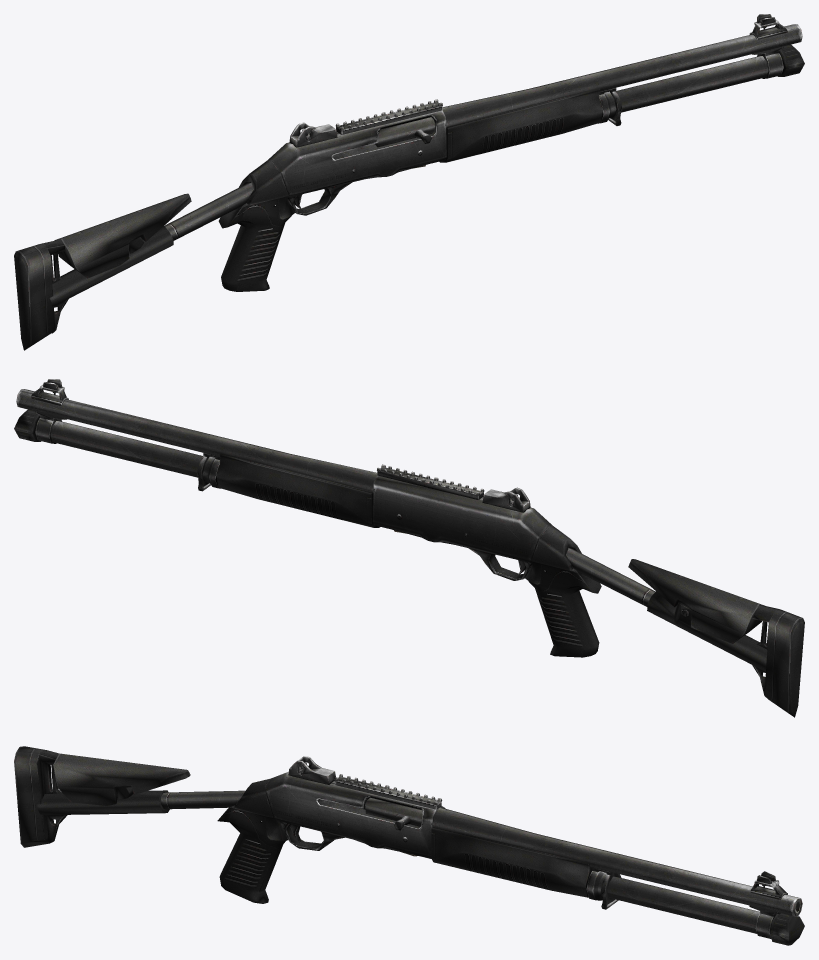
3 views of the same model, one above another, from view 1: azimuth 30°, elevation 25°; view 2: azimuth 150°, elevation 25°; view 3: azimuth 330°, elevation 25° (orthographic).
Parts seen in each view (by area): view 1: M10; view 2: M10; view 3: M10.
Boxes of the visible parts, <box> form: M10: <box>14,14,804,350</box>; M10: <box>14,379,804,717</box>; M10: <box>14,746,804,945</box>.
Size of the model in its own units: 249 by 48.24 by 13.4.
1 material, 1 textured.
